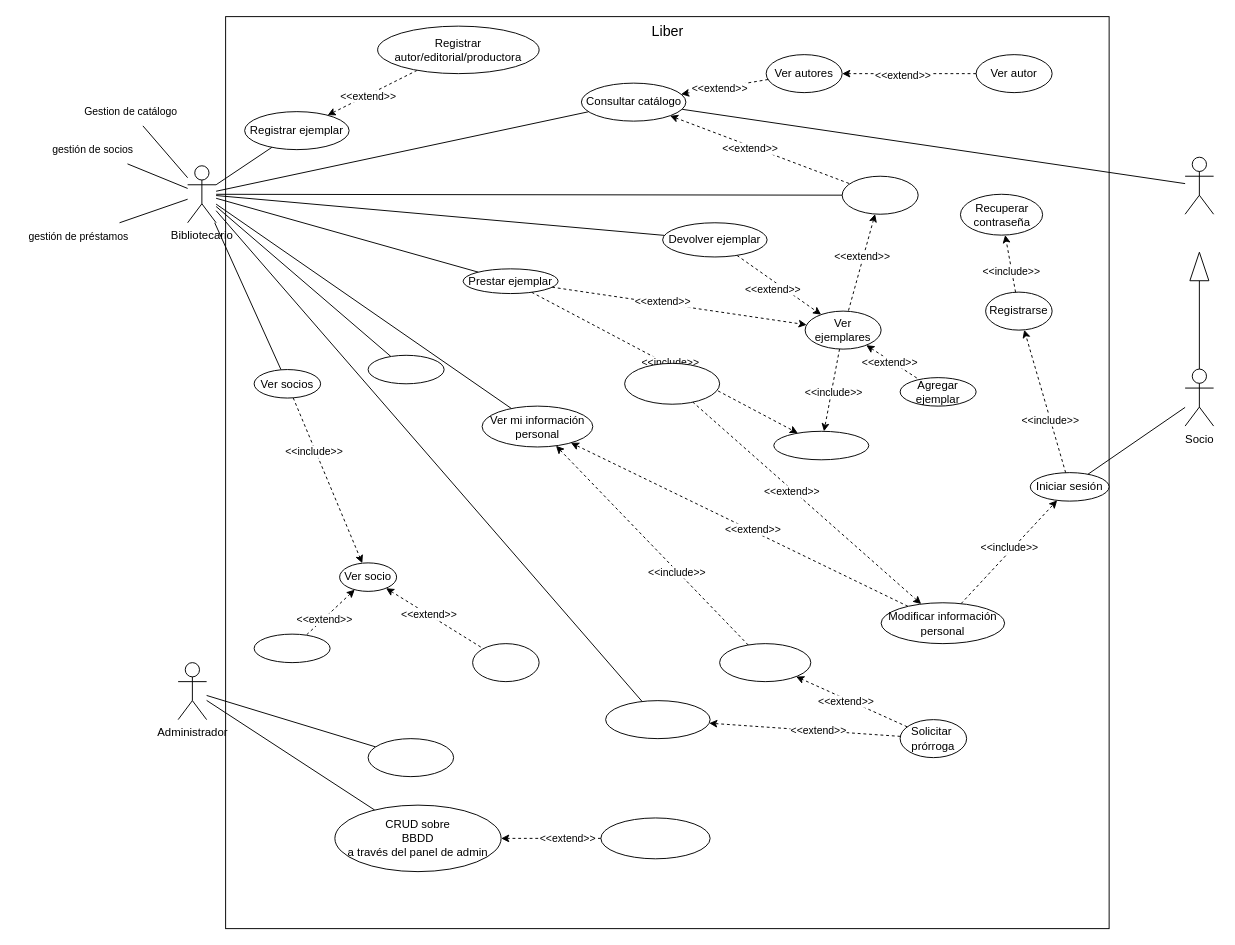
Image size: 1235x945. Some labels were removed from this diagram. Here are the shapes that lost their labels. From the top down, the centre of each, then its label:
At point 879,194: "Ver obra".
At point 1199,185: "Socio invitado".
At point 405,369: "Nuevo socio".
At point 672,383: "Darse de baja".
At point 821,445: "Consultar disponibilidad".
At point 291,648: "Eliminar socio".
At point 505,662: "Modificar socio".
At point 765,662: "Consultar mis préstamos".
At point 657,719: "Consultar préstamos de socio".
At point 410,757: "Dar de alta biblitoecario".
At point 655,838: "CRUD sobre todo tipo de usuarios".
